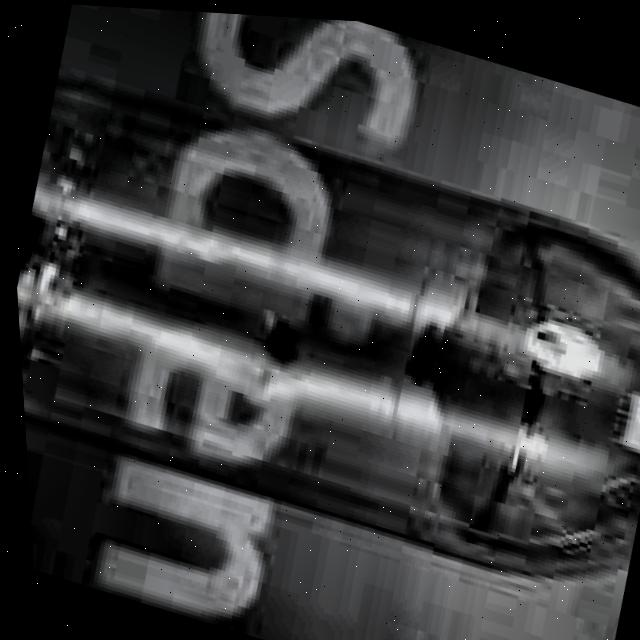plastic: (0, 0, 640, 636)
